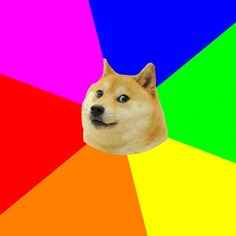doge: (79, 58, 169, 155)
